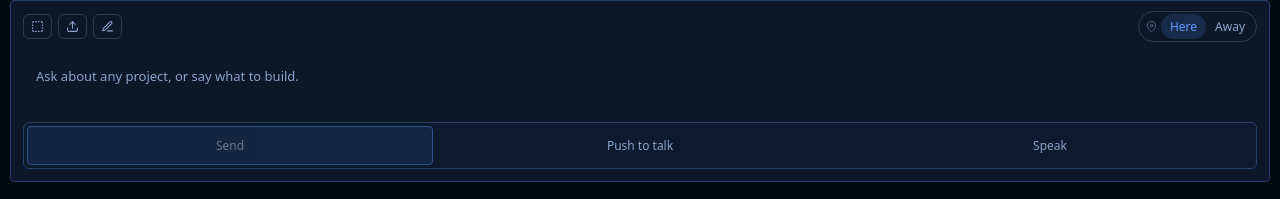
Test: ComposeBox — Backspace takes the whole pill › leaves the rest of the message alone
Type "tell @Kraken Auth to ship" into the text box named "Message" at (640,85), box [23,56,1257,114]
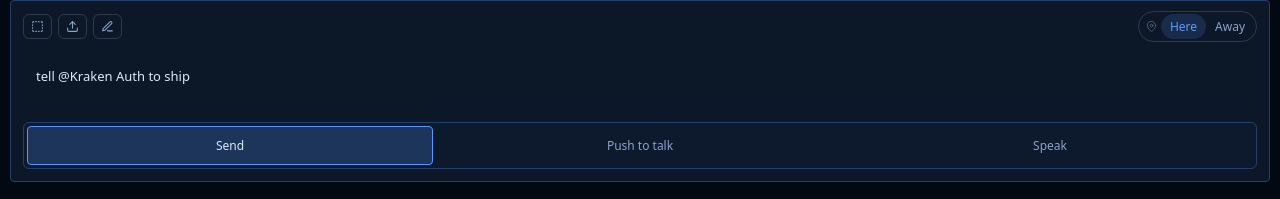
Press Backspace in the text box named "Message", box [23,56,1257,114]
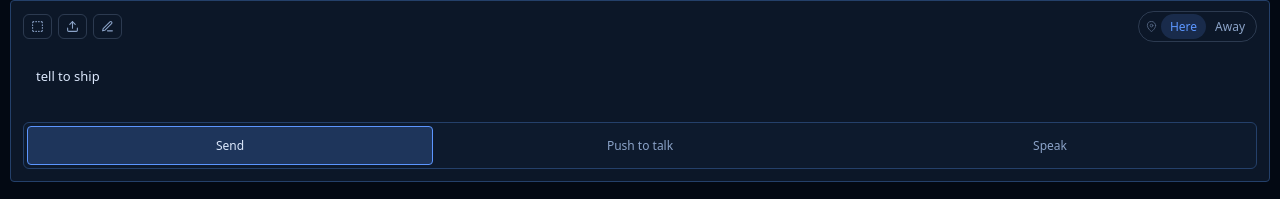
Expected: the text box named "Message" holds "tell to ship", [23,56,1257,114]
